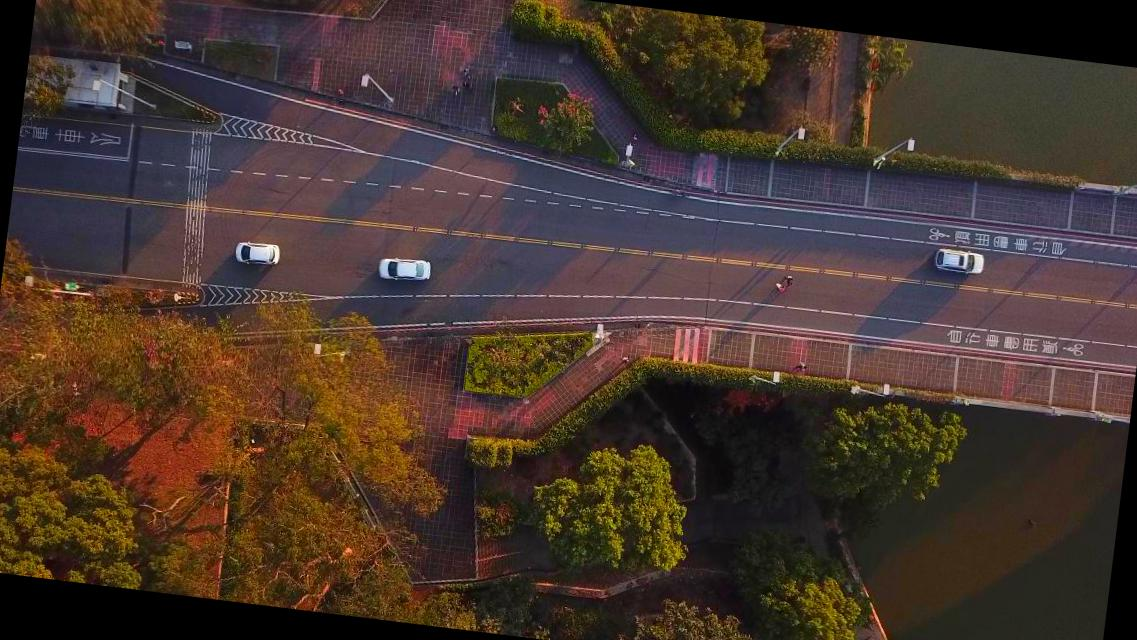vehicle: (374, 253, 432, 286), (931, 245, 985, 276), (234, 239, 280, 268)
